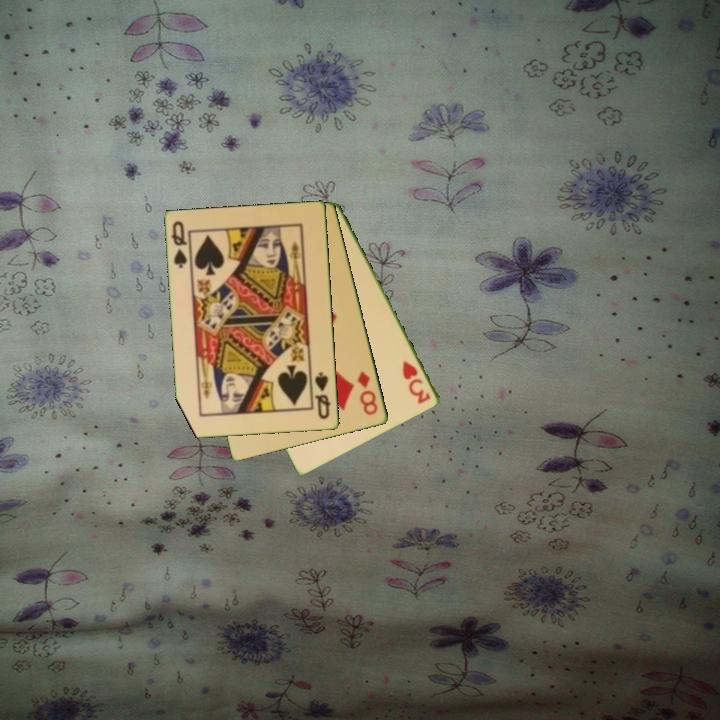3h: (399, 357, 433, 407)
8d: (354, 367, 381, 418)
Qs: (168, 218, 194, 272), (312, 369, 334, 422)
